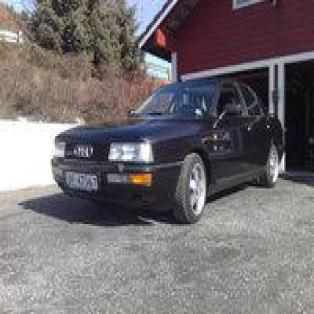Auto: (53, 84, 292, 224)
